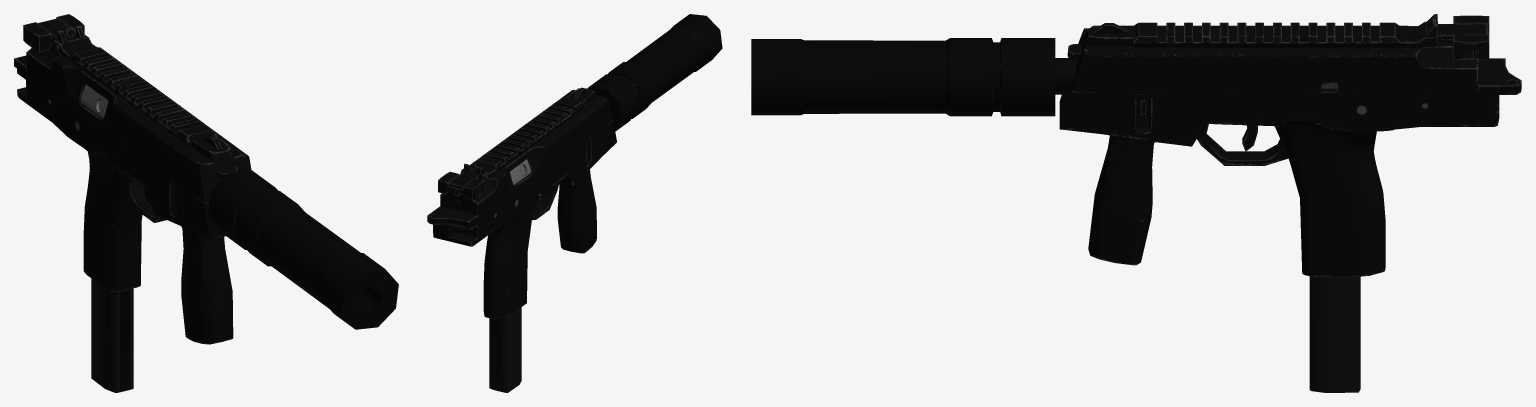
3 renders of one model, left to right at view 1: azimuth 30°, elevation 25°; view 2: azimuth 150°, elevation 25°; view 3: azimuth 270°, elevation 25°, orthographic. The views are drawn at different scales.
Parts seen in each view (by area): view 1: MP9_lowpoly; view 2: MP9_lowpoly; view 3: MP9_lowpoly.
Part boxes in pixels (<box>): MP9_lowpoly: <box>14,14,398,392</box>; MP9_lowpoly: <box>427,14,722,392</box>; MP9_lowpoly: <box>751,14,1521,392</box>.
Bounding box in the file's own units: 39.2 × 207 × 392.
